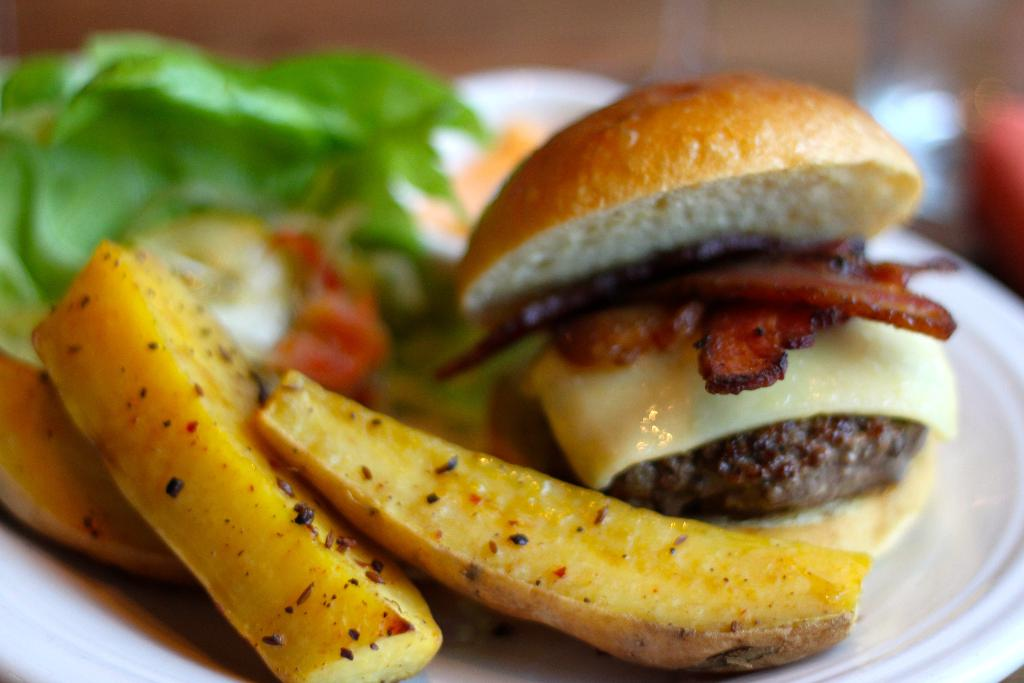French fries: (1, 201, 429, 666)
